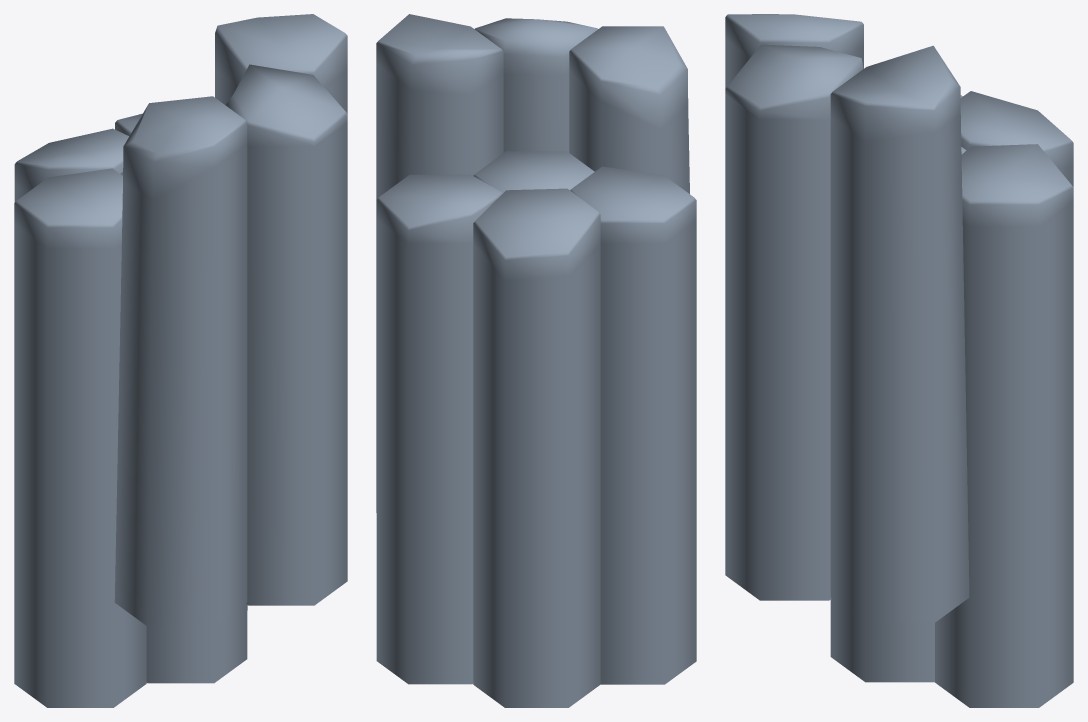
The model's file is HexRaised2.fbx.
The picture shows the model from 3 angles, left to right: view 1: azimuth 30°, elevation 25°; view 2: azimuth 150°, elevation 25°; view 3: azimuth 270°, elevation 25°; orthographic projection. The views are drawn at different scales.
Parts seen in each view (by area): view 1: Cylinder.003, Cylinder.004, Cylinder.002, Cylinder.000, Cylinder.005, Cylinder.006; view 2: Cylinder.006, Cylinder.007, Cylinder.004, Cylinder.000, Cylinder.003, Cylinder.002, Cylinder.005; view 3: Cylinder.000, Cylinder.007, Cylinder.002, Cylinder.005, Cylinder.003, Cylinder.006.
Boxes of the visible parts, <box> form: Cylinder.003: <box>114,96,247,626</box>; Cylinder.004: <box>14,168,146,707</box>; Cylinder.002: <box>225,64,347,605</box>; Cylinder.000: <box>215,14,347,113</box>; Cylinder.005: <box>120,172,247,683</box>; Cylinder.006: <box>14,128,128,202</box>; Cylinder.006: <box>473,188,600,707</box>; Cylinder.007: <box>376,174,502,684</box>; Cylinder.004: <box>570,166,696,684</box>; Cylinder.000: <box>376,14,503,512</box>; Cylinder.003: <box>569,26,689,193</box>; Cylinder.002: <box>474,18,597,152</box>; Cylinder.005: <box>473,151,594,193</box>; Cylinder.000: <box>830,45,969,622</box>; Cylinder.007: <box>935,144,1073,707</box>; Cylinder.002: <box>725,44,863,600</box>; Cylinder.005: <box>830,147,966,682</box>; Cylinder.003: <box>725,14,863,88</box>; Cylinder.006: <box>960,91,1073,186</box>.
Size of the model in its own units: 520 by 1009 by 499.
